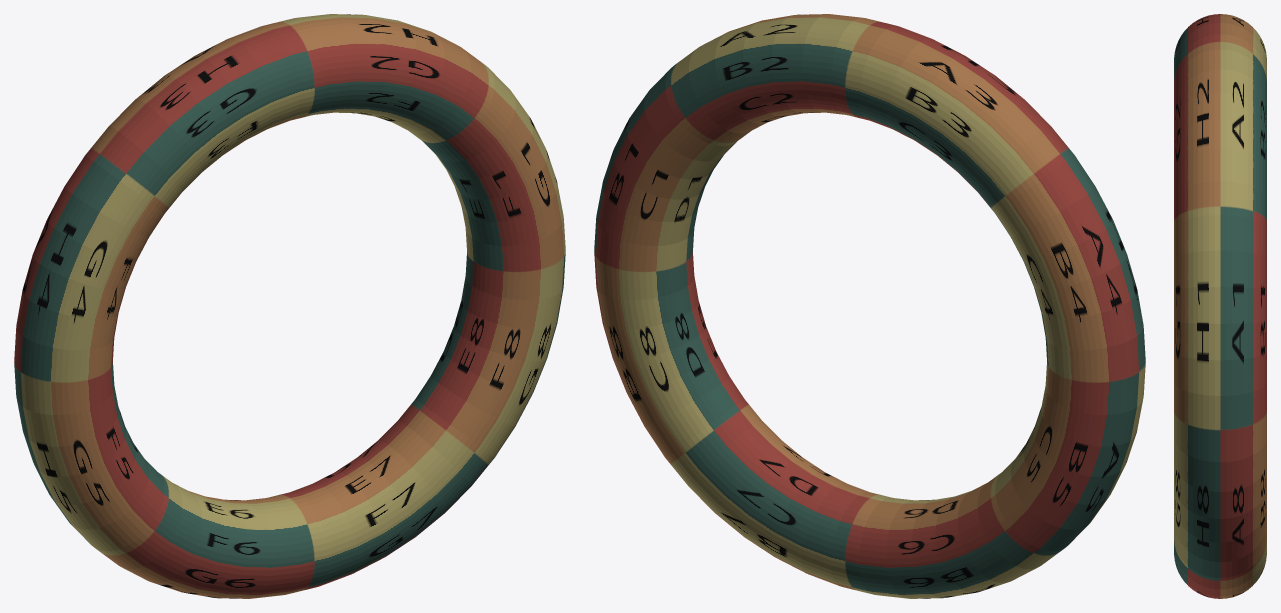
The model's file is texture_torus_R3_r1.glb.
3 renders of one model, left to right at view 1: azimuth 30°, elevation 25°; view 2: azimuth 150°, elevation 25°; view 3: azimuth 270°, elevation 25°, orthographic. The views are drawn at different scales.
Parts seen in each view (by area): view 1: world; view 2: world; view 3: world.
Part boxes in pixels (x1,y1,x2,y2): world: [14, 14, 565, 598]; world: [594, 14, 1145, 598]; world: [1174, 14, 1266, 598].
Bounding box in the file's own units: 14.27 × 14.24 × 2.26.
1 material, 1 textured.
